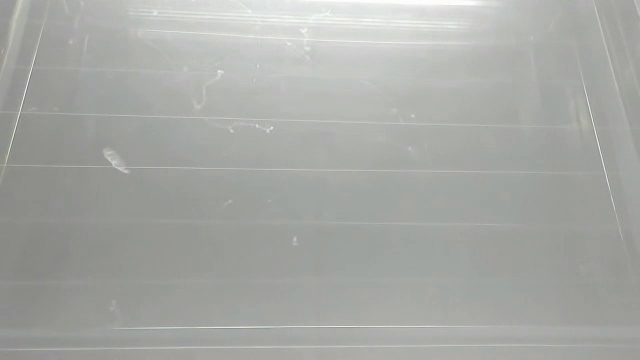alpha: (100, 144, 133, 176)
